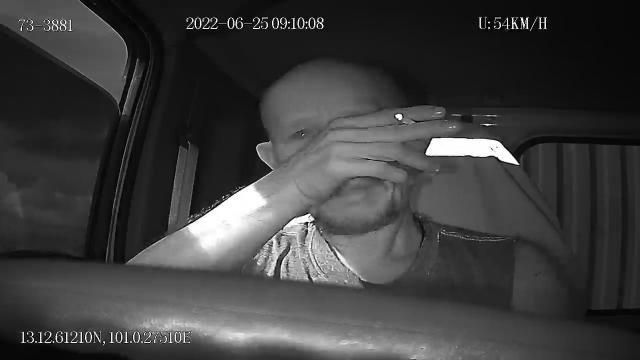Smoking: (394, 111, 418, 127)
